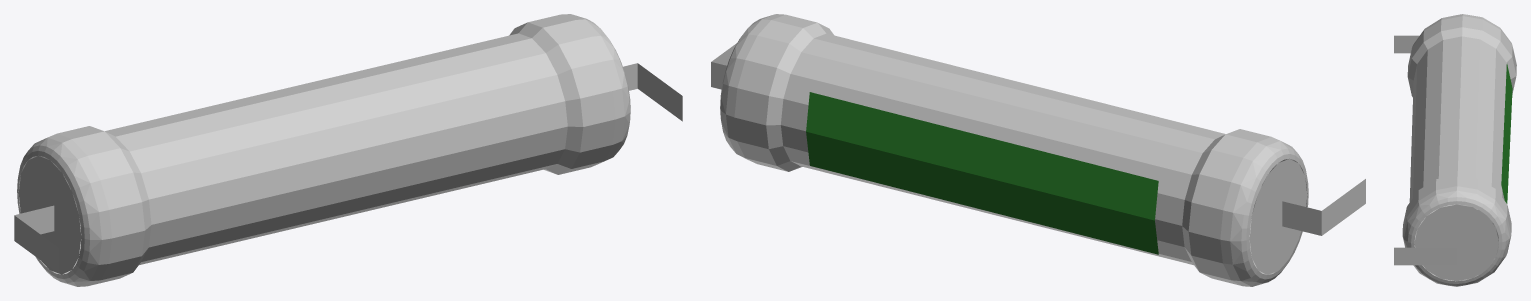
3 views of the same model, side by side, from view 1: azimuth 30°, elevation 25°; view 2: azimuth 150°, elevation 25°; view 3: azimuth 270°, elevation 25° (orthographic). The views are drawn at different scales.
Visible parts, largest first — view 1: ShapeIndexedFaceSet.002_ShapeIndexedFaceSet.003, ShapeIndexedFaceSet_ShapeIndexedFaceSet.001, ShapeIndexedFaceSet.001_ShapeIndexedFaceSet.002; view 2: ShapeIndexedFaceSet.002_ShapeIndexedFaceSet.003, ShapeIndexedFaceSet.003_ShapeIndexedFaceSet, ShapeIndexedFaceSet_ShapeIndexedFaceSet.001, ShapeIndexedFaceSet.001_ShapeIndexedFaceSet.002; view 3: ShapeIndexedFaceSet.002_ShapeIndexedFaceSet.003, ShapeIndexedFaceSet.001_ShapeIndexedFaceSet.002, ShapeIndexedFaceSet.003_ShapeIndexedFaceSet, ShapeIndexedFaceSet_ShapeIndexedFaceSet.001.
Boxes of the visible parts, box(x1,y1,x2,y2) form: ShapeIndexedFaceSet.002_ShapeIndexedFaceSet.003: box(17, 14, 630, 286); ShapeIndexedFaceSet_ShapeIndexedFaceSet.001: box(14, 200, 80, 273); ShapeIndexedFaceSet.001_ShapeIndexedFaceSet.002: box(623, 63, 682, 121); ShapeIndexedFaceSet.002_ShapeIndexedFaceSet.003: box(720, 14, 1308, 286); ShapeIndexedFaceSet.003_ShapeIndexedFaceSet: box(806, 92, 1158, 254); ShapeIndexedFaceSet_ShapeIndexedFaceSet.001: box(1252, 179, 1365, 235); ShapeIndexedFaceSet.001_ShapeIndexedFaceSet.002: box(711, 43, 736, 89); ShapeIndexedFaceSet.002_ShapeIndexedFaceSet.003: box(1402, 14, 1516, 286); ShapeIndexedFaceSet.001_ShapeIndexedFaceSet.002: box(1394, 247, 1456, 265); ShapeIndexedFaceSet.003_ShapeIndexedFaceSet: box(1501, 64, 1512, 203); ShapeIndexedFaceSet_ShapeIndexedFaceSet.001: box(1394, 35, 1419, 53).
Size of the model in its own units: 10.16 by 2.21 by 2.49.
